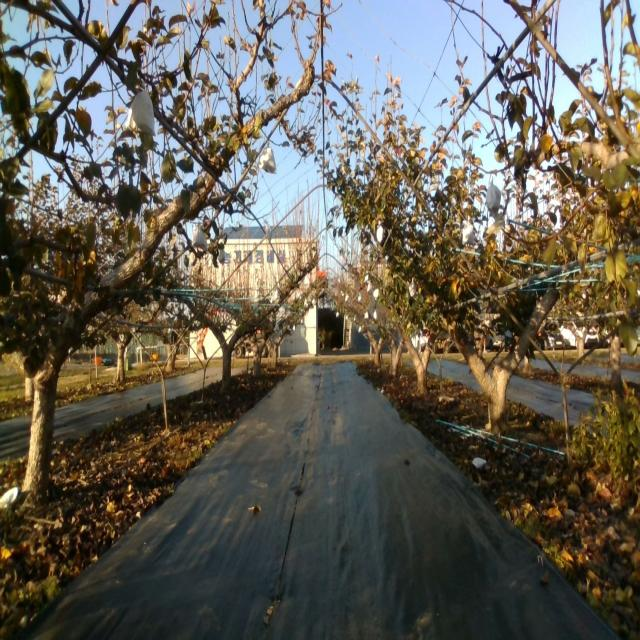pearbags: (125, 91, 157, 136), (258, 141, 276, 174), (486, 182, 502, 218), (192, 226, 207, 252), (462, 222, 474, 245)
